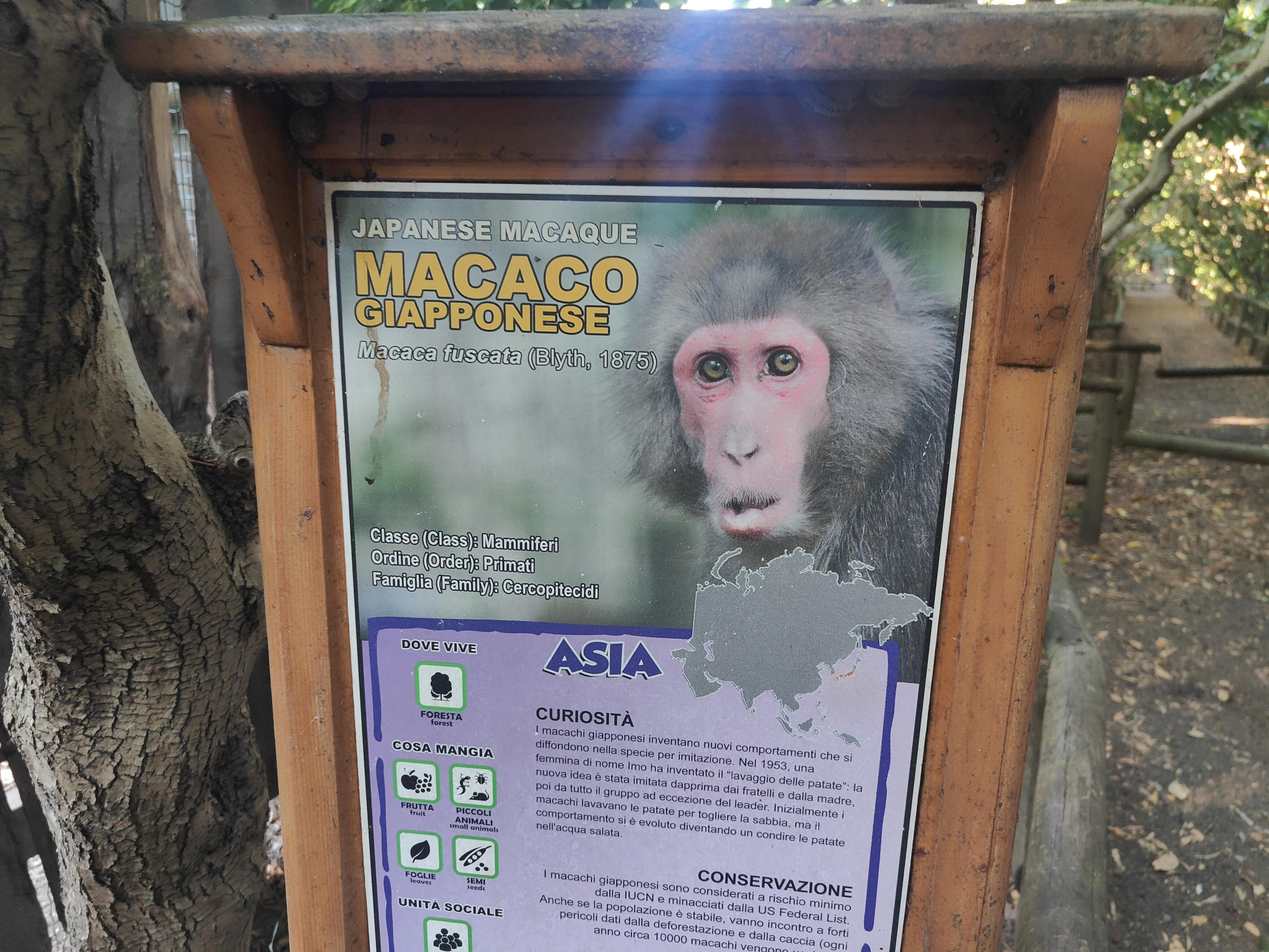boar: (597, 210, 957, 683)
